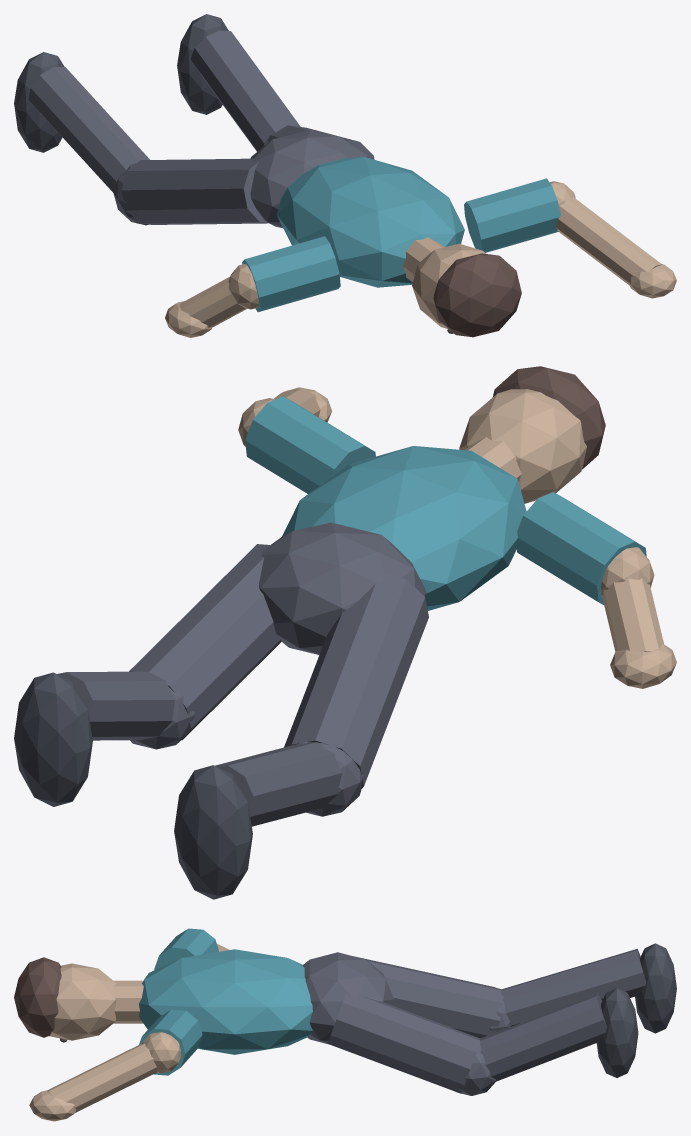
The picture shows the model from 3 angles, top to bottom: view 1: azimuth 30°, elevation 25°; view 2: azimuth 150°, elevation 25°; view 3: azimuth 270°, elevation 25°; orthographic projection. The views are drawn at different scales.
Visible parts, largest first — view 1: world; view 2: world; view 3: world.
Boxes of the visible parts, left/top/right/bottom form: world: left=14, top=14, right=676, bottom=337; world: left=14, top=366, right=676, bottom=899; world: left=14, top=928, right=676, bottom=1121.
Size of the model in its own units: 1.25 by 0.3942 by 2.
